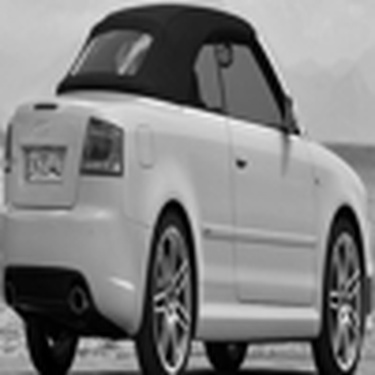car: (1, 10, 365, 359)
